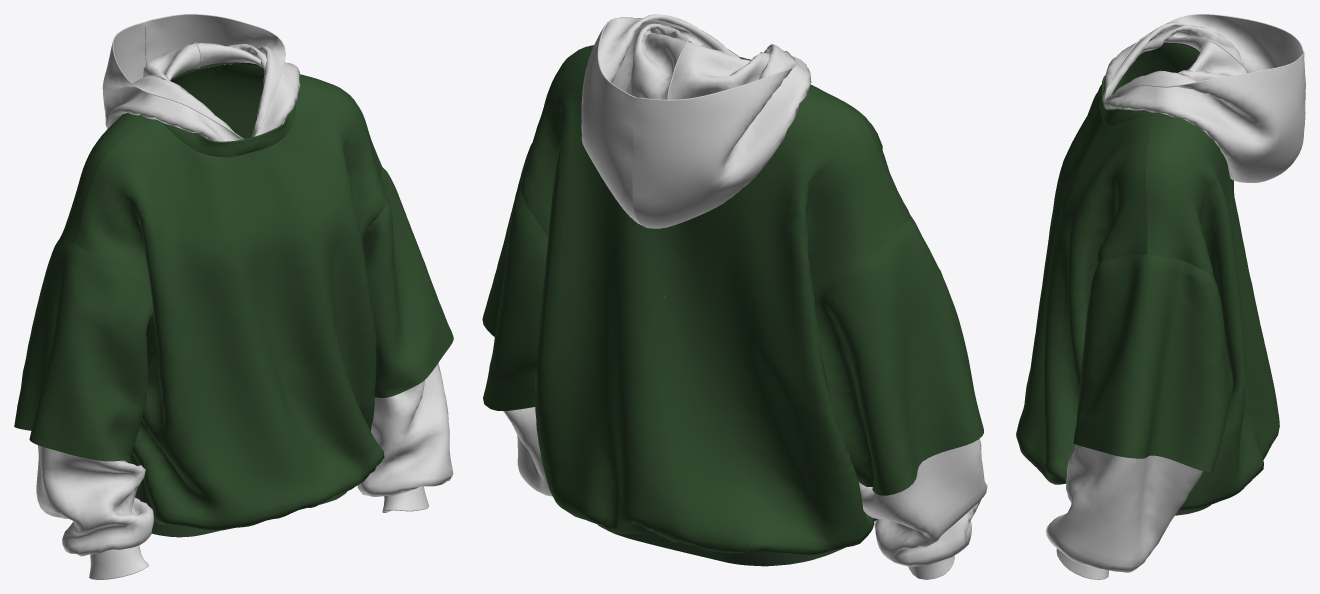
Rendered from green_and_white_hoodie.glb.
3 views of the same model, side by side, from view 1: azimuth 30°, elevation 25°; view 2: azimuth 150°, elevation 25°; view 3: azimuth 270°, elevation 25° (orthographic). The views are drawn at different scales.
Parts seen in each view (by area): view 1: Object_5, Object_3, Object_6, Object_4, Object_7, Object_8, Object_9, Object_2; view 2: Object_2, Object_3, Object_8, Object_7, Object_6, Object_4, Object_9, Object_5; view 3: Object_6, Object_5, Object_2, Object_7, Object_9, Object_8.
Boxes of the visible parts, x1=… form: Object_5: x1=74, y1=85, x2=386, y2=530; Object_3: x1=14, y1=240, x2=157, y2=462; Object_6: x1=89, y1=62, x2=453, y2=579; Object_4: x1=36, y1=445, x2=154, y2=556; Object_7: x1=145, y1=14, x2=346, y2=537; Object_8: x1=102, y1=21, x2=243, y2=141; Object_9: x1=357, y1=363, x2=453, y2=496; Object_2: x1=59, y1=64, x2=357, y2=243; Object_2: x1=521, y1=45, x2=904, y2=554; Object_3: x1=815, y1=215, x2=983, y2=495; Object_8: x1=632, y1=40, x2=811, y2=228; Object_7: x1=581, y1=14, x2=844, y2=566; Object_6: x1=482, y1=56, x2=954, y2=579; Object_4: x1=858, y1=438, x2=987, y2=566; Object_9: x1=503, y1=407, x2=552, y2=496; Object_5: x1=810, y1=84, x2=910, y2=520; Object_6: x1=1056, y1=42, x2=1233, y2=579; Object_5: x1=1016, y1=50, x2=1153, y2=484; Object_2: x1=1146, y1=43, x2=1279, y2=511; Object_7: x1=1103, y1=41, x2=1305, y2=515; Object_9: x1=1046, y1=444, x2=1203, y2=572; Object_8: x1=1103, y1=14, x2=1305, y2=112.
Size of the model in its own units: 65 by 68.48 by 39.
Materials: 1 (1 with a texture image).
